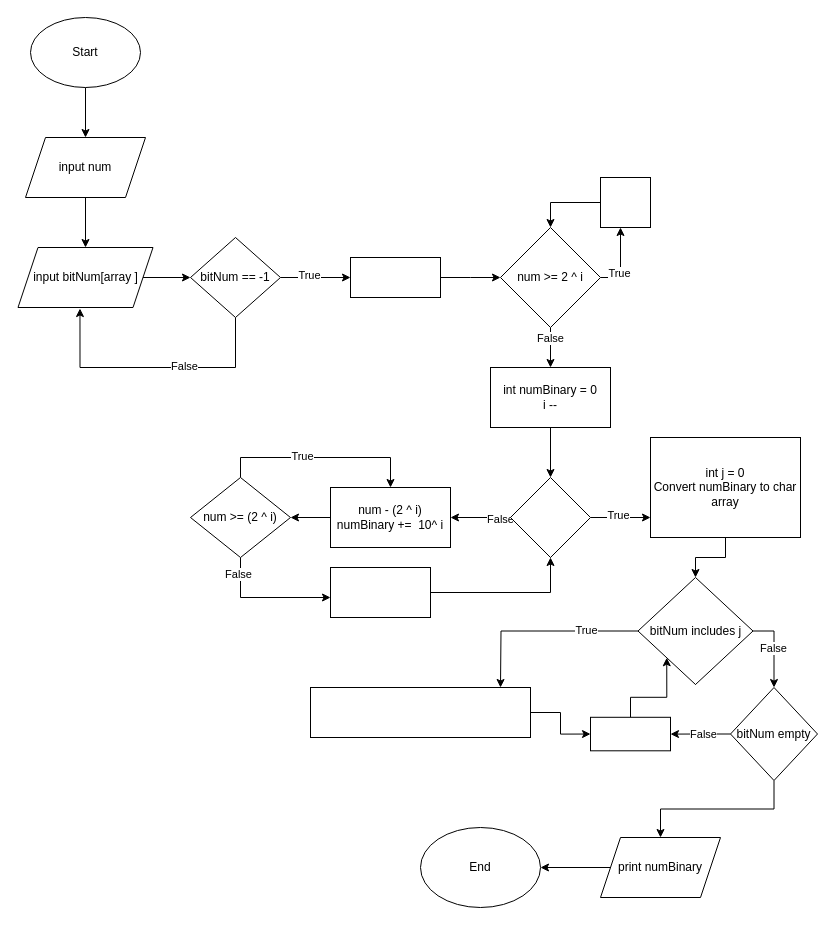
Some shapes in this 835 by 925 pixel diagram are drawn without their labels. Each missing label, with the box of its shape:
i ++: (600, 176, 650, 228)
i --: (330, 566, 430, 618)
i < 0: (510, 476, 590, 558)
int i = 0: (350, 256, 440, 298)
j ++: (590, 716, 670, 751)
numBinary[ j ] = ~ numBinary[ j ] Remove j from bitNum: (310, 686, 530, 738)
